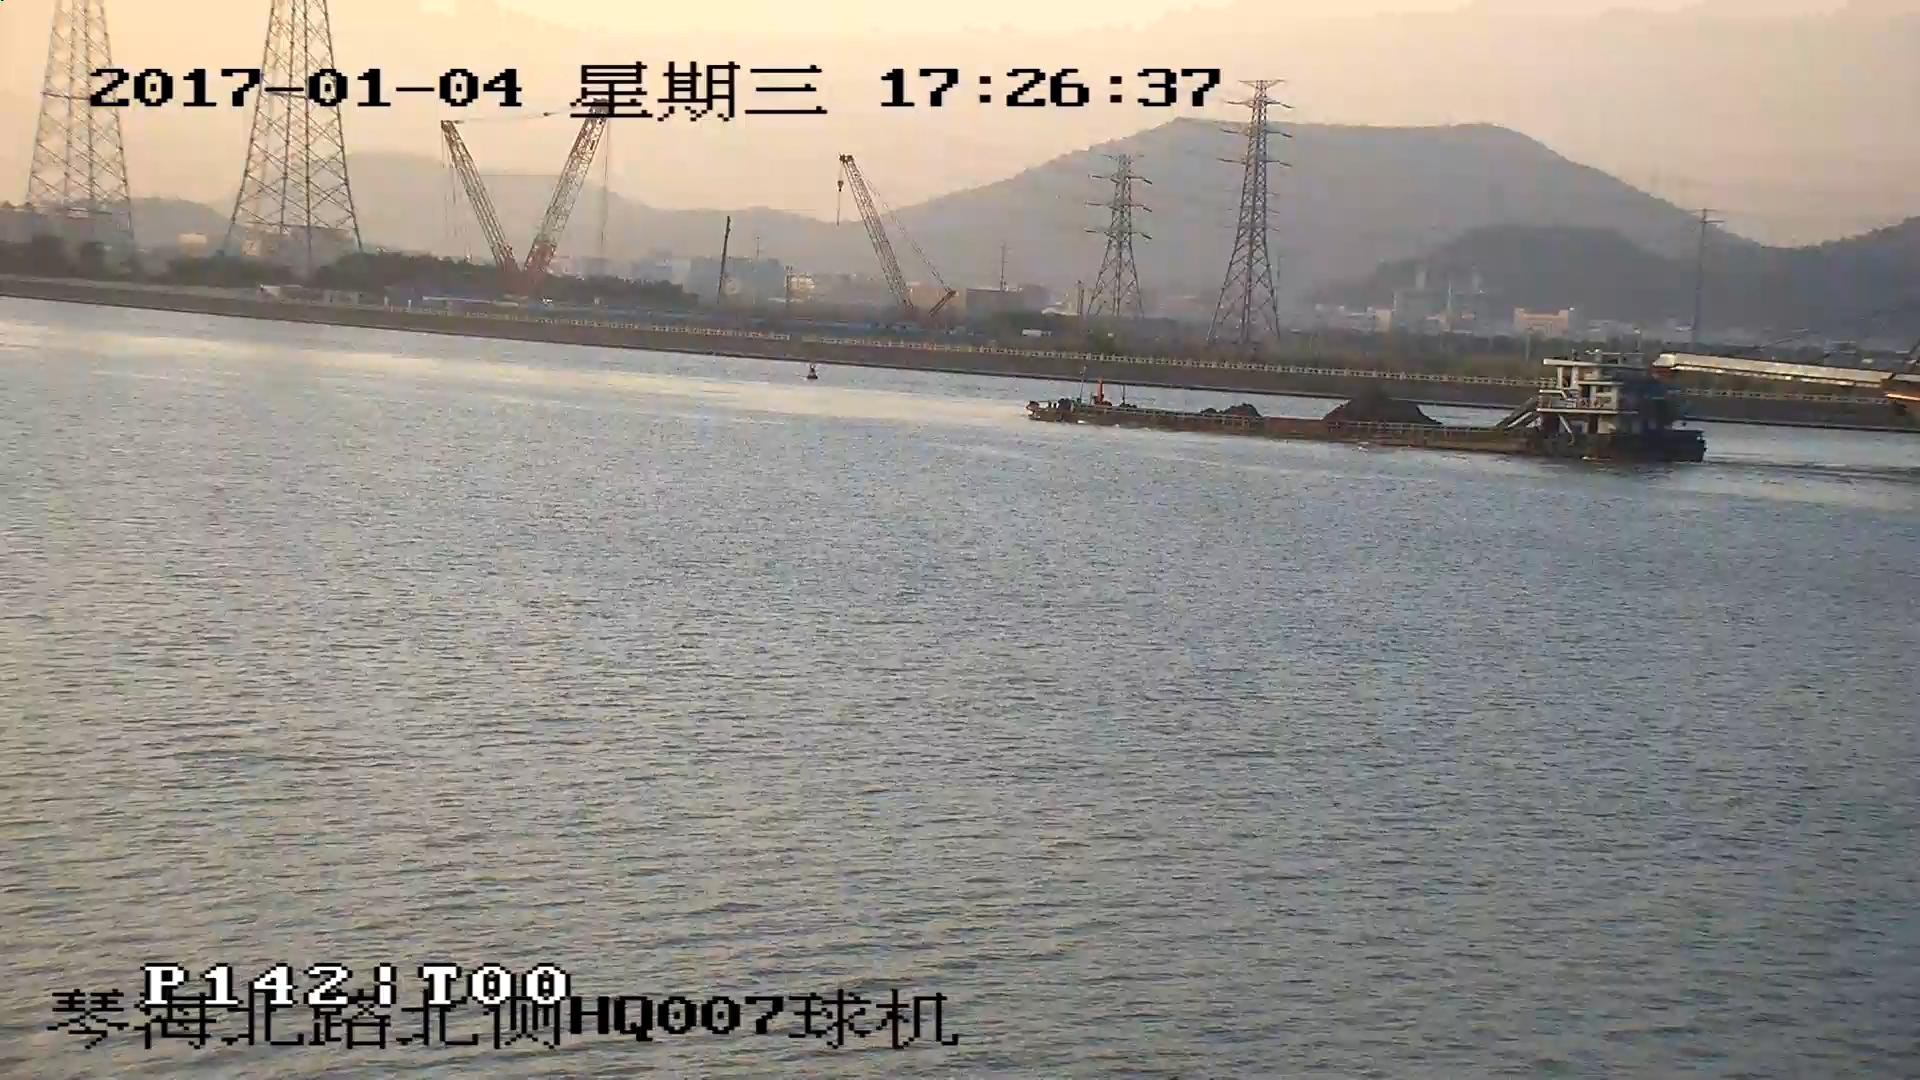ore carrier: (1020, 358, 1706, 463)
